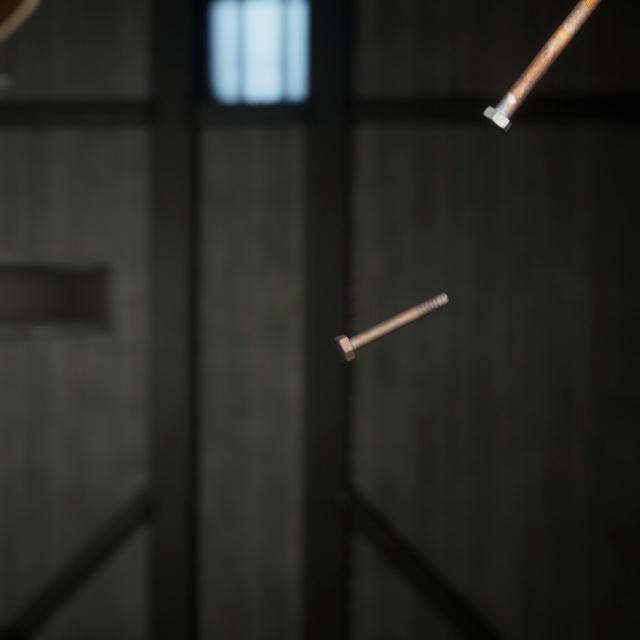bolt: (478, 0, 598, 126), (329, 271, 453, 348)
